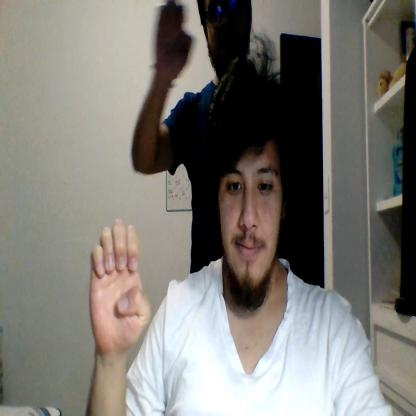E: (90, 219, 150, 354)
